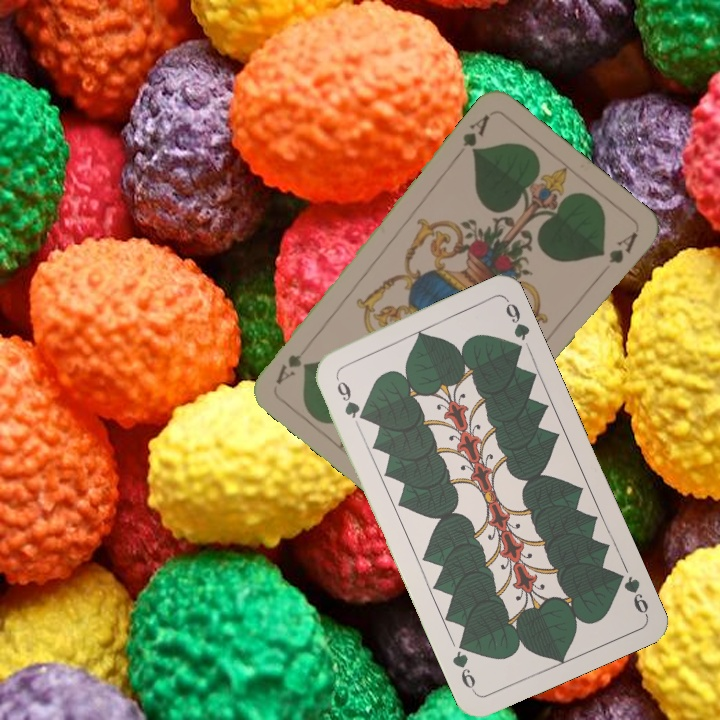G9: (609, 567, 651, 618), (331, 372, 368, 423)
GA: (452, 110, 493, 160)
